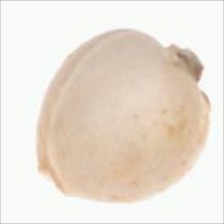L3: (36, 152, 72, 196)
L4: (35, 28, 210, 204)
